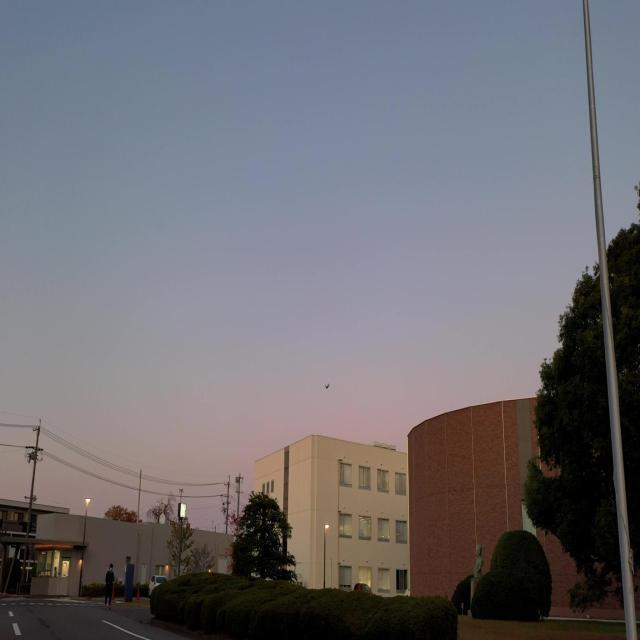Birds: (323, 382, 331, 390)
